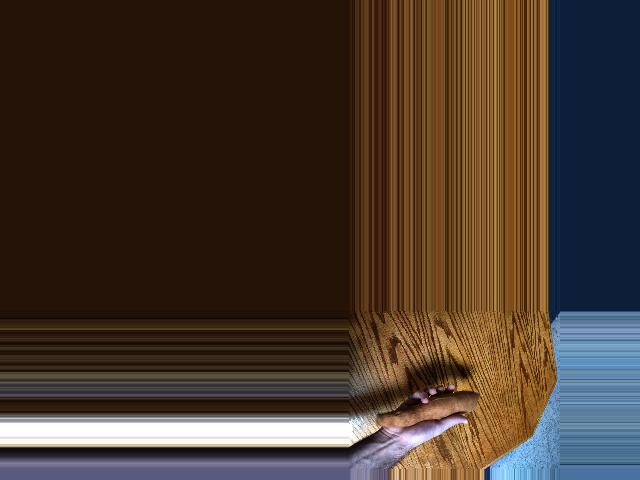sweet_potato: (378, 390, 481, 428)
